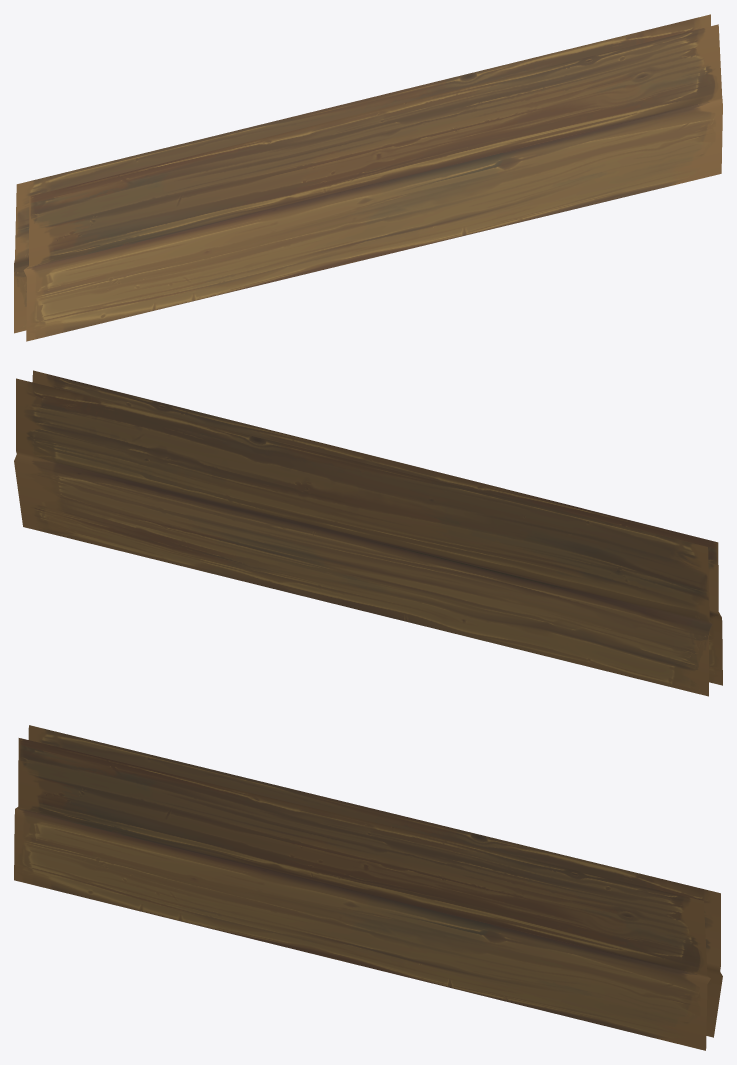
Rendered from SM_MOD_wall_low_planks_hor_town.fbx.
3 renders of one model, top to bottom at view 1: azimuth 30°, elevation 25°; view 2: azimuth 150°, elevation 25°; view 3: azimuth 330°, elevation 25°, orthographic.
Parts seen in each view (by area): view 1: SM_MOD_wall_low_planks_hor_town; view 2: SM_MOD_wall_low_planks_hor_town; view 3: SM_MOD_wall_low_planks_hor_town.
Part boxes in pixels (box(x1,y1,x2,y2)): SM_MOD_wall_low_planks_hor_town: box(14, 14, 722, 341); SM_MOD_wall_low_planks_hor_town: box(14, 370, 722, 696); SM_MOD_wall_low_planks_hor_town: box(14, 725, 722, 1050).
Size of the model in its own units: 390 by 79.75 by 12.64.
